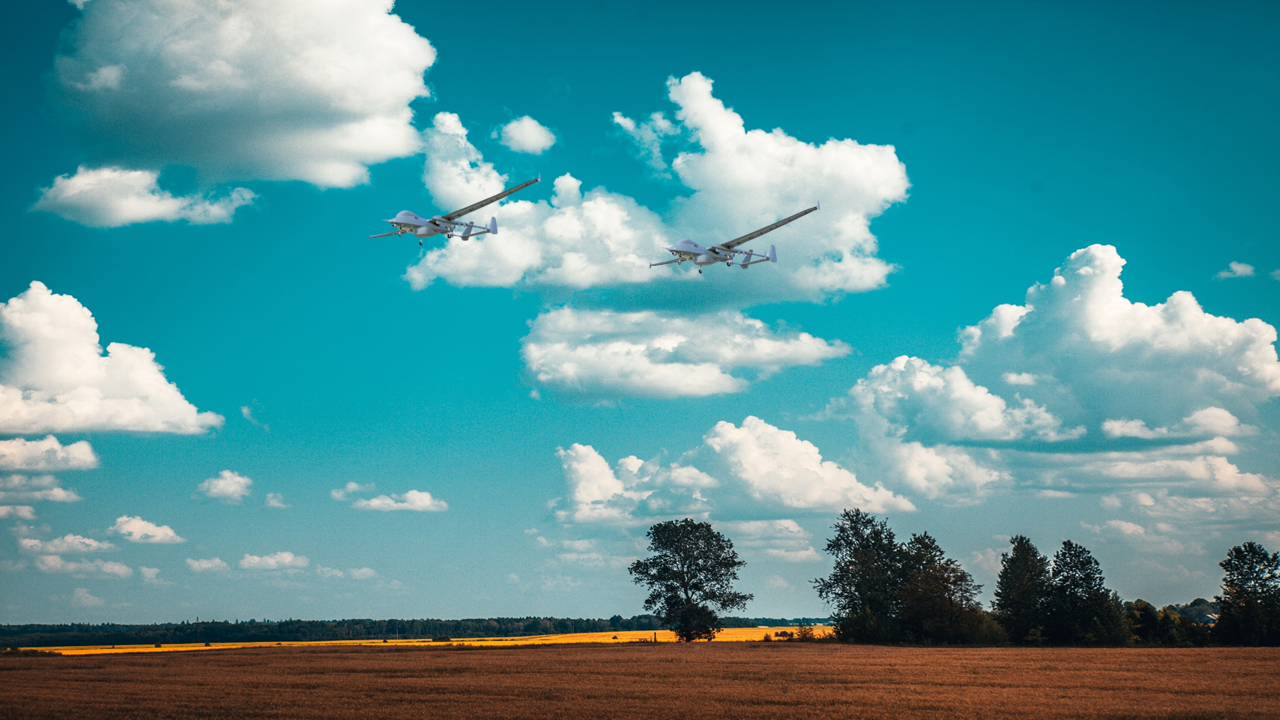military drone: (649, 201, 820, 273), (369, 178, 538, 245)
